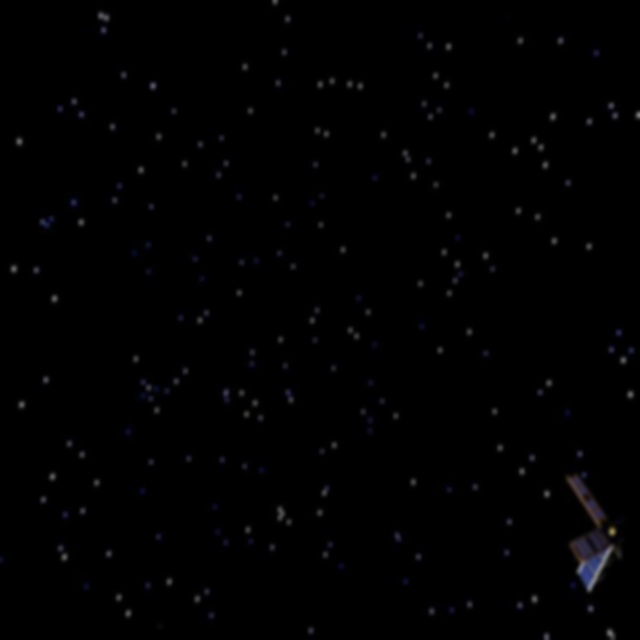satellite: (552, 457, 629, 594)
